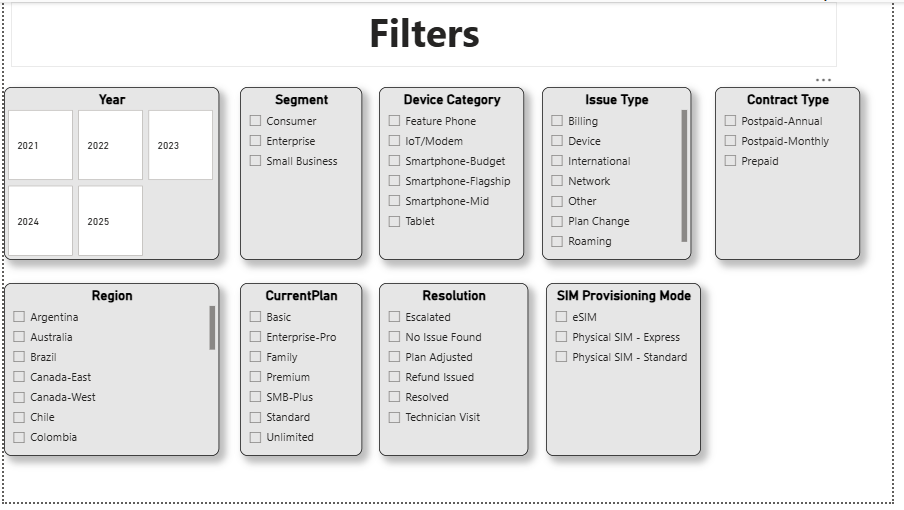

Layout of this report page (visuals, bound fields, positions):
{"tool":"powerbi","page":{"name":"Filters","canvas":[1280,720],"ordinal":1},"visuals":[{"type":"textbox","box":[10.1,0,1189.4,93.6],"z":0},{"type":"advancedSlicerVisual","fields":{"Values":["Calendar.Year"]},"box":[0,122.4,309.6,249.1],"z":1000},{"type":"slicer","title":"Region","fields":{"Values":["Telecom_RegionalPeople.Region"]},"box":[0,404.6,309.6,249.1],"z":2000},{"type":"slicer","title":"Segment","fields":{"Values":["Telecom_Customers.Segment"]},"box":[339.8,122.4,175.7,249.1],"z":3000},{"type":"slicer","title":"CurrentPlan","fields":{"Values":["Telecom_Customers.CurrentPlan"]},"box":[339.8,404.6,175.7,249.1],"z":4000},{"type":"slicer","title":"Device Category","fields":{"Values":["Telecom_Customers.DeviceCategory"]},"box":[540,122.4,208.8,249.1],"z":5000},{"type":"slicer","title":"Contract Type","fields":{"Values":["Telecom_Customers.ContractType"]},"box":[1023.8,122.4,208.8,249.1],"z":6000},{"type":"slicer","title":"Issue Type","fields":{"Values":["Telecom_Tickets.IssueType"]},"box":[774.7,122.4,214.6,249.1],"z":7000},{"type":"slicer","title":"Resolution","fields":{"Values":["Telecom_Tickets.Resolution"]},"box":[540,404.6,214.6,249.1],"z":8000},{"type":"slicer","title":"SIM Provisioning Mode","fields":{"Values":["Telecom_Usage_Fact.SIMProvisioningMode"]},"box":[780.5,404.6,223.2,249.1],"z":9000}]}

Visuals, with their boxes in screenshot pixels (x1, y1, x2, y2), scaled from the page's 1280x720 canvas onto the 904x510 screenshot:
textbox: bbox=[7, 0, 847, 66]
advancedSlicerVisual - Calendar.Year: bbox=[0, 87, 219, 263]
"Region" slicer: bbox=[0, 287, 219, 463]
"Segment" slicer: bbox=[240, 87, 364, 263]
"CurrentPlan" slicer: bbox=[240, 287, 364, 463]
"Device Category" slicer: bbox=[381, 87, 529, 263]
"Contract Type" slicer: bbox=[723, 87, 871, 263]
"Issue Type" slicer: bbox=[547, 87, 699, 263]
"Resolution" slicer: bbox=[381, 287, 533, 463]
"SIM Provisioning Mode" slicer: bbox=[551, 287, 709, 463]
